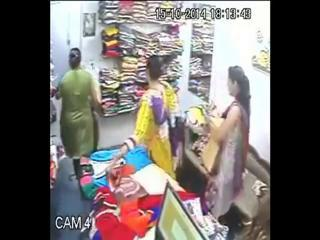Normal: (176, 65, 252, 221), (114, 54, 180, 180), (56, 48, 106, 177)
